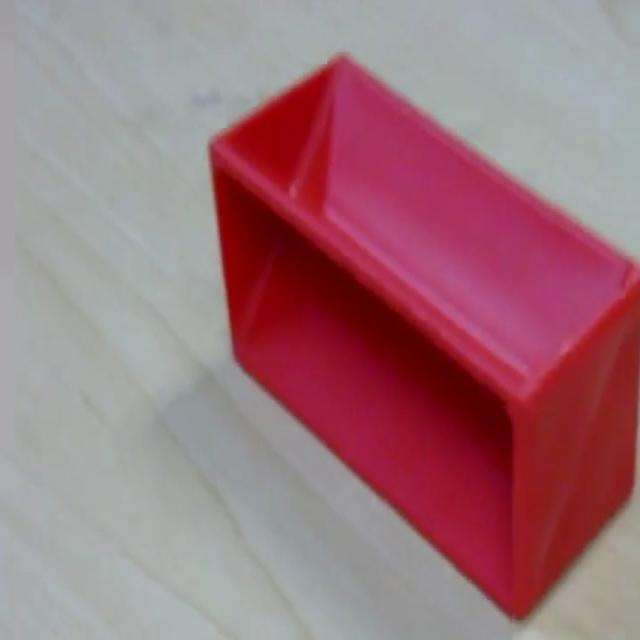red_block: (206, 49, 638, 620)
